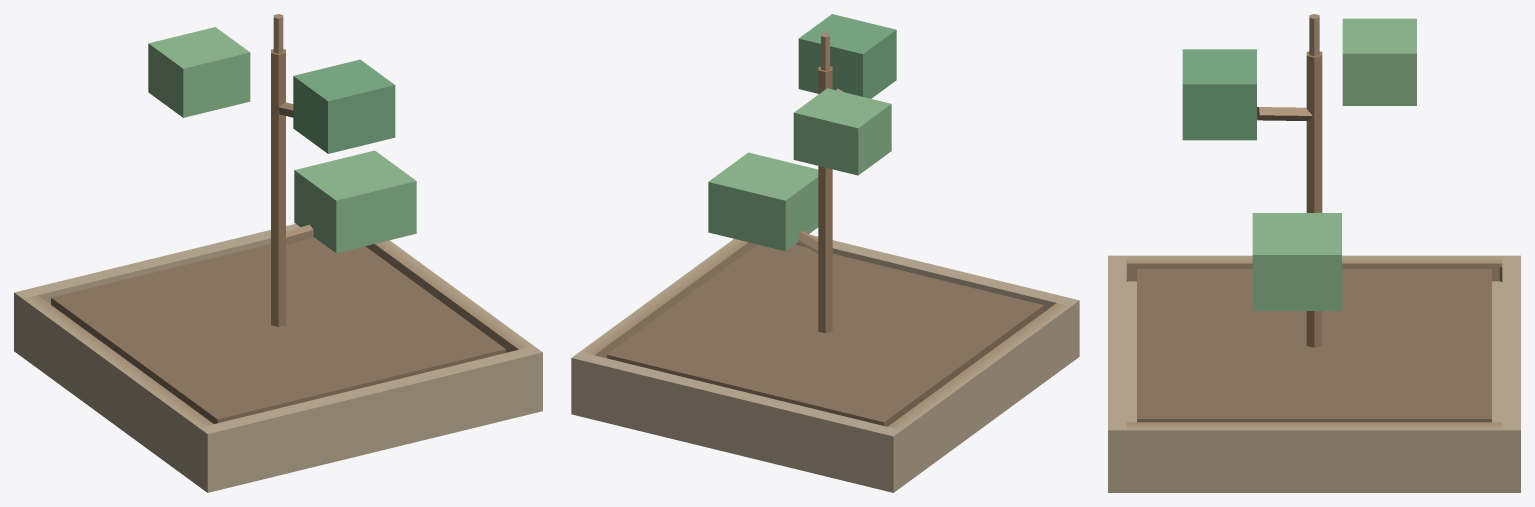
Rendered from cafe_crecimiento_far.glb.
The picture shows the model from 3 angles, left to right: view 1: azimuth 30°, elevation 25°; view 2: azimuth 150°, elevation 25°; view 3: azimuth 270°, elevation 25°; orthographic projection. The views are drawn at different scales.
Visible parts, largest first — view 1: model; view 2: model; view 3: model.
Part boxes in pixels (<box>): model: <box>14,14,542,492</box>; model: <box>571,14,1079,492</box>; model: <box>1108,14,1520,492</box>.
Size of the model in its own units: 1 by 1.04 by 1.
